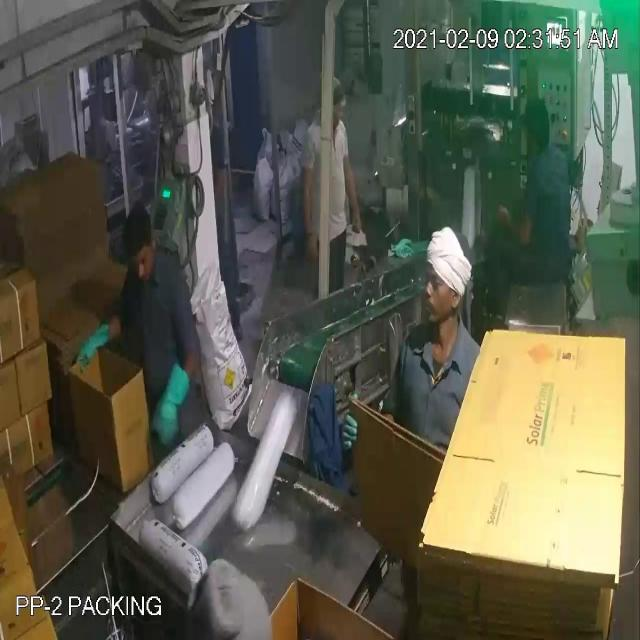Gloves: (22, 70, 515, 399)
